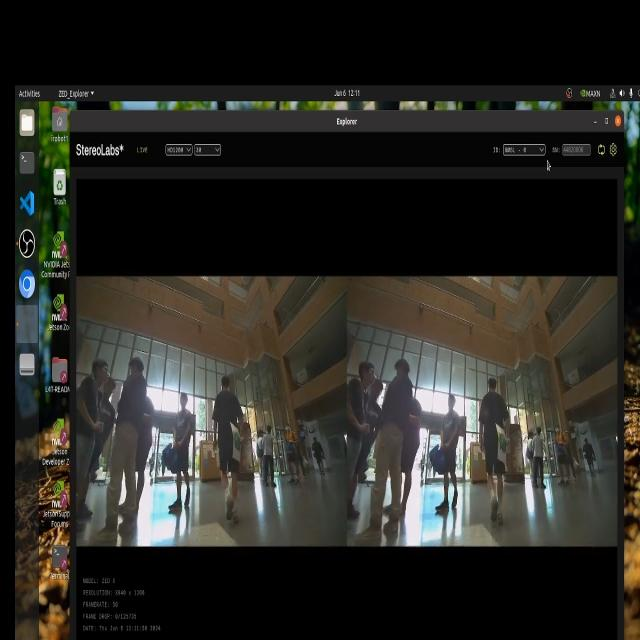green: (496, 427, 509, 462), (231, 424, 241, 460)
